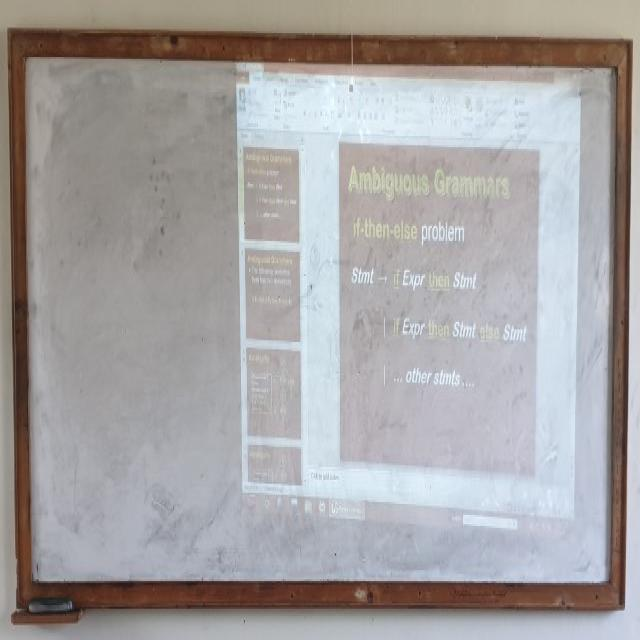Slide: (232, 49, 579, 544)
White-board: (17, 44, 627, 598)
